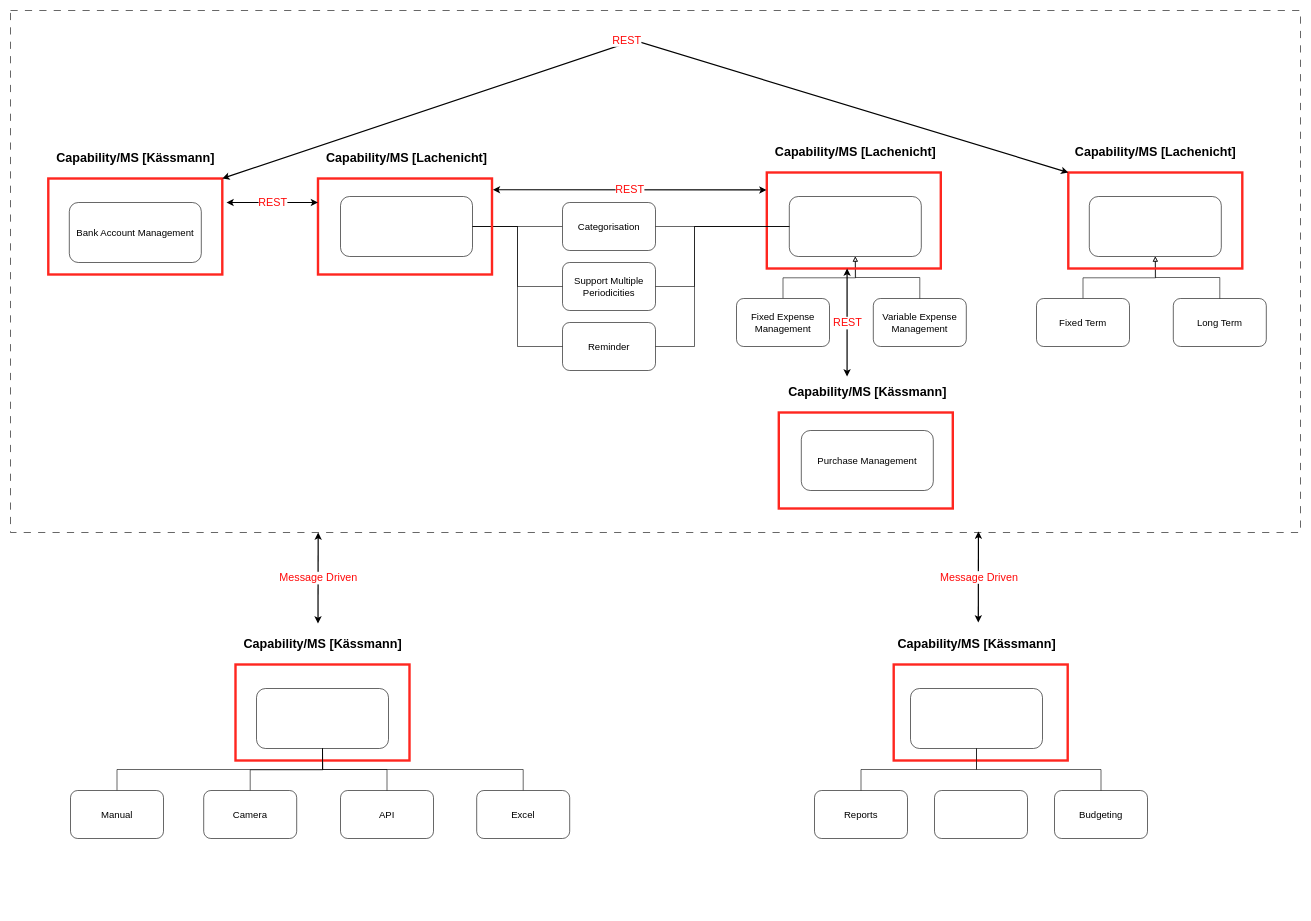
Some shapes in this 1311 by 921 pixel diagram are drawn without their labels. The centre of each missing label's shape, as x and y in pixels:
Data Analyst: point (976, 718)
Expense Management: point (855, 226)
Income Source Management: point (406, 226)
Input Manager: point (322, 718)
Predications: point (981, 814)
Saving Goals Management: point (1155, 226)
